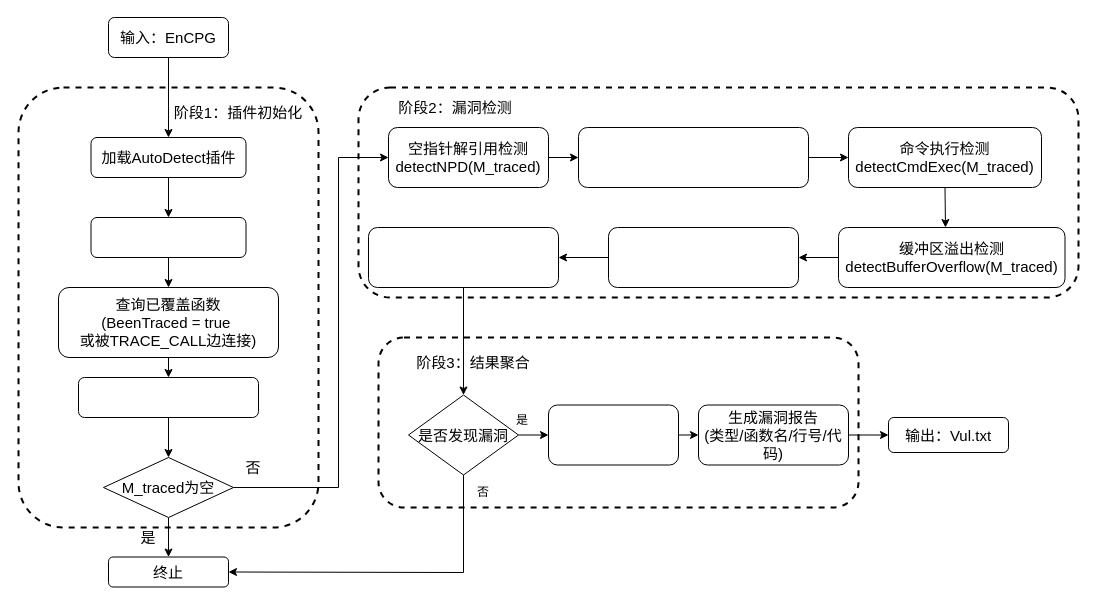
This 1096x605 diagram has some shape labels left out. The shapes that lost their labels are listed below. From the top down, each one's centre as x and y in pixels, then its label:
At pixel 693 157: "整数溢出检测 detectIntegerOverflow(M_traced)".
At pixel 168 237: "读取配置 （确认输出路径）".
At pixel 463 257: "Off-by-One检测 detectOffByOne(M_traced)".
At pixel 703 257: "UAF漏洞检测 detectUAF(M_traced)".
At pixel 168 397: "构建分析范围 M_traced集合".
At pixel 613 434: "聚合检测结果 按漏洞类型分类".
